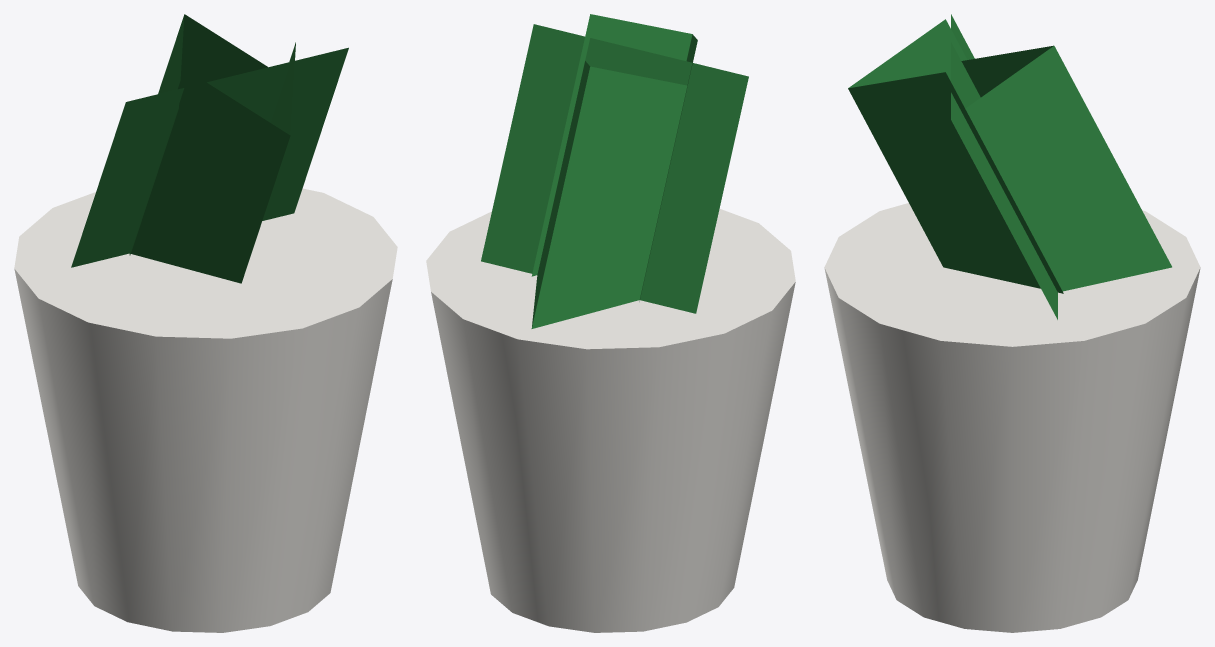
The model's file is plant-pot.glb.
3 renders of one model, left to right at view 1: azimuth 30°, elevation 25°; view 2: azimuth 150°, elevation 25°; view 3: azimuth 270°, elevation 25°, orthographic. The views are drawn at different scales.
Bounding box in the file's own units: 0.6 × 0.9403 × 0.6.
